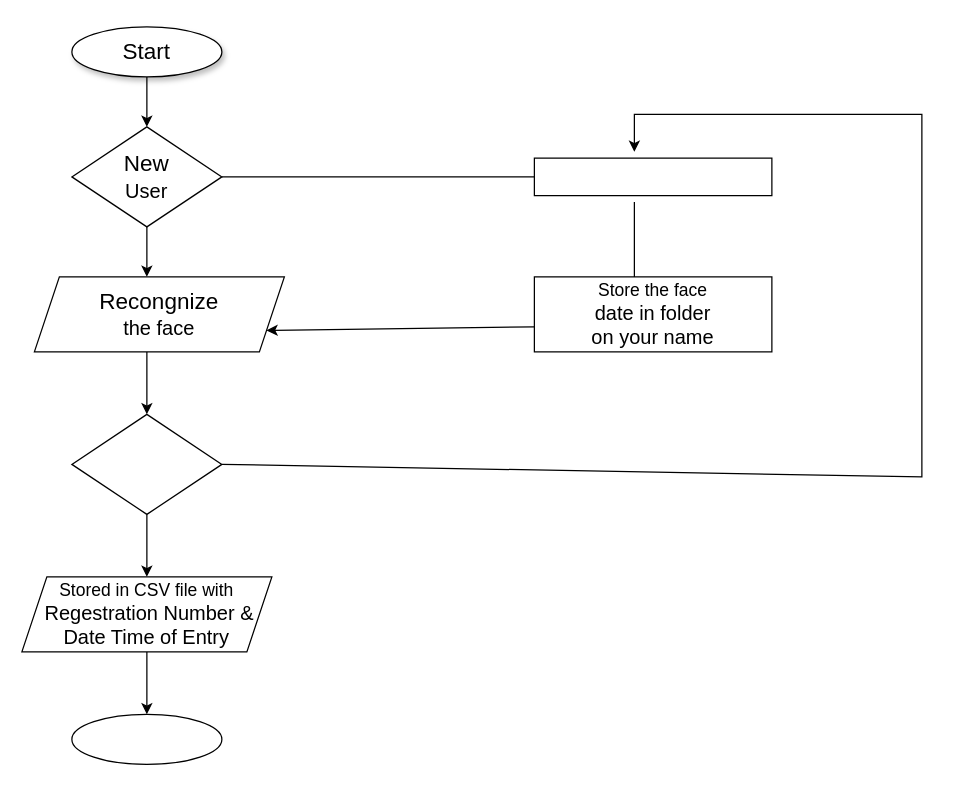
Some shapes in this 954 by 786 pixel diagram are drawn without their labels. Each missing label, with the centre of its shape:
"End" belongs at point (146, 738).
"Face Reconized" belongs at point (146, 463).
"Give Your Photograph" belongs at point (652, 176).
